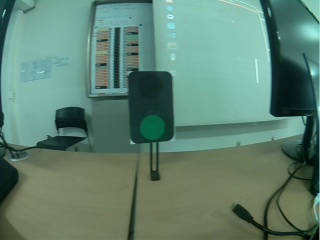green_light: (124, 70, 178, 146)
